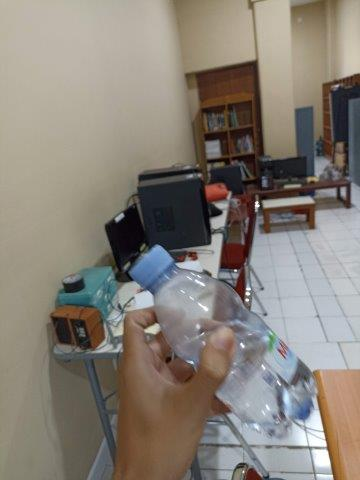botolplastik: (130, 245, 319, 438)
